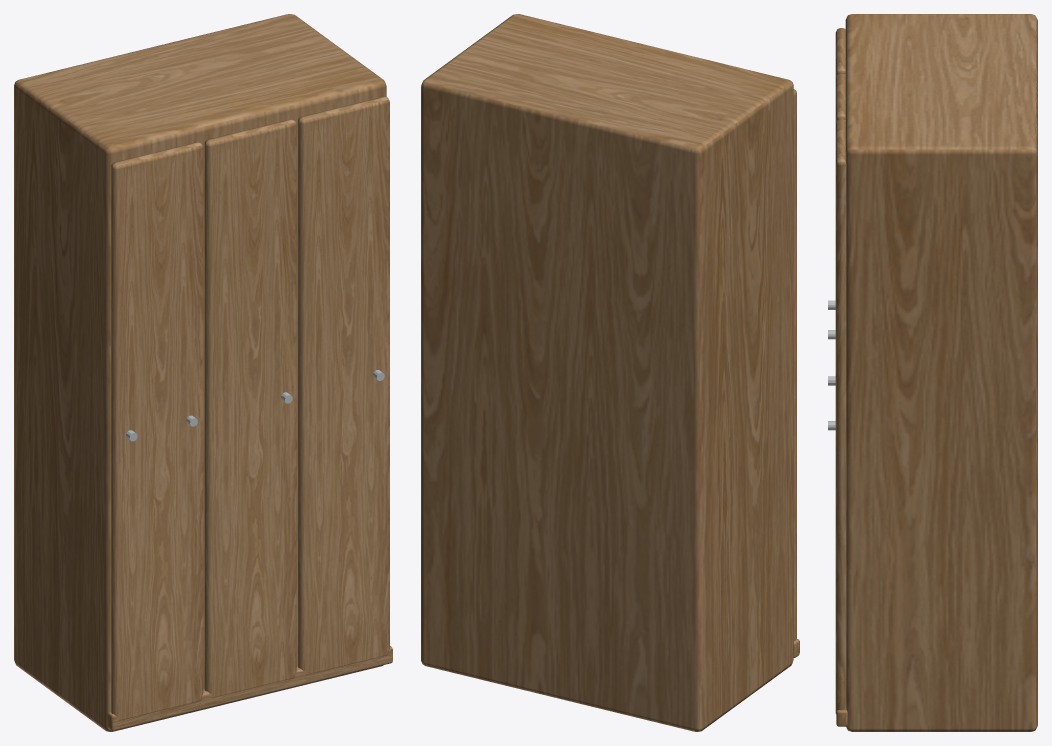
Rendered from wardrobe_white.glb.
The picture shows the model from 3 angles, left to right: view 1: azimuth 30°, elevation 25°; view 2: azimuth 150°, elevation 25°; view 3: azimuth 270°, elevation 25°; orthographic projection.
Visible parts, largest first — view 1: wardrobe carcass, door.001, door.002, door, base trim; view 2: wardrobe carcass, door; view 3: wardrobe carcass, door.002, door.001, door.
Part boxes in pixels (x1=…): wardrobe carcass: x1=14, y1=14, x2=386, y2=731; door.001: x1=204, y1=119, x2=296, y2=697; door.002: x1=297, y1=97, x2=389, y2=675; door: x1=111, y1=142, x2=203, y2=720; base trim: x1=107, y1=646, x2=392, y2=730; wardrobe carcass: x1=421, y1=14, x2=793, y2=731; door: x1=793, y1=89, x2=796, y2=640; wardrobe carcass: x1=845, y1=14, x2=1037, y2=731; door.002: x1=835, y1=119, x2=846, y2=713; door.001: x1=835, y1=73, x2=845, y2=123; door: x1=835, y1=28, x2=845, y2=77.
Size of the model in its own units: 0.98 by 1.95 by 0.6325.
Materials: 3 (2 with a texture image).
